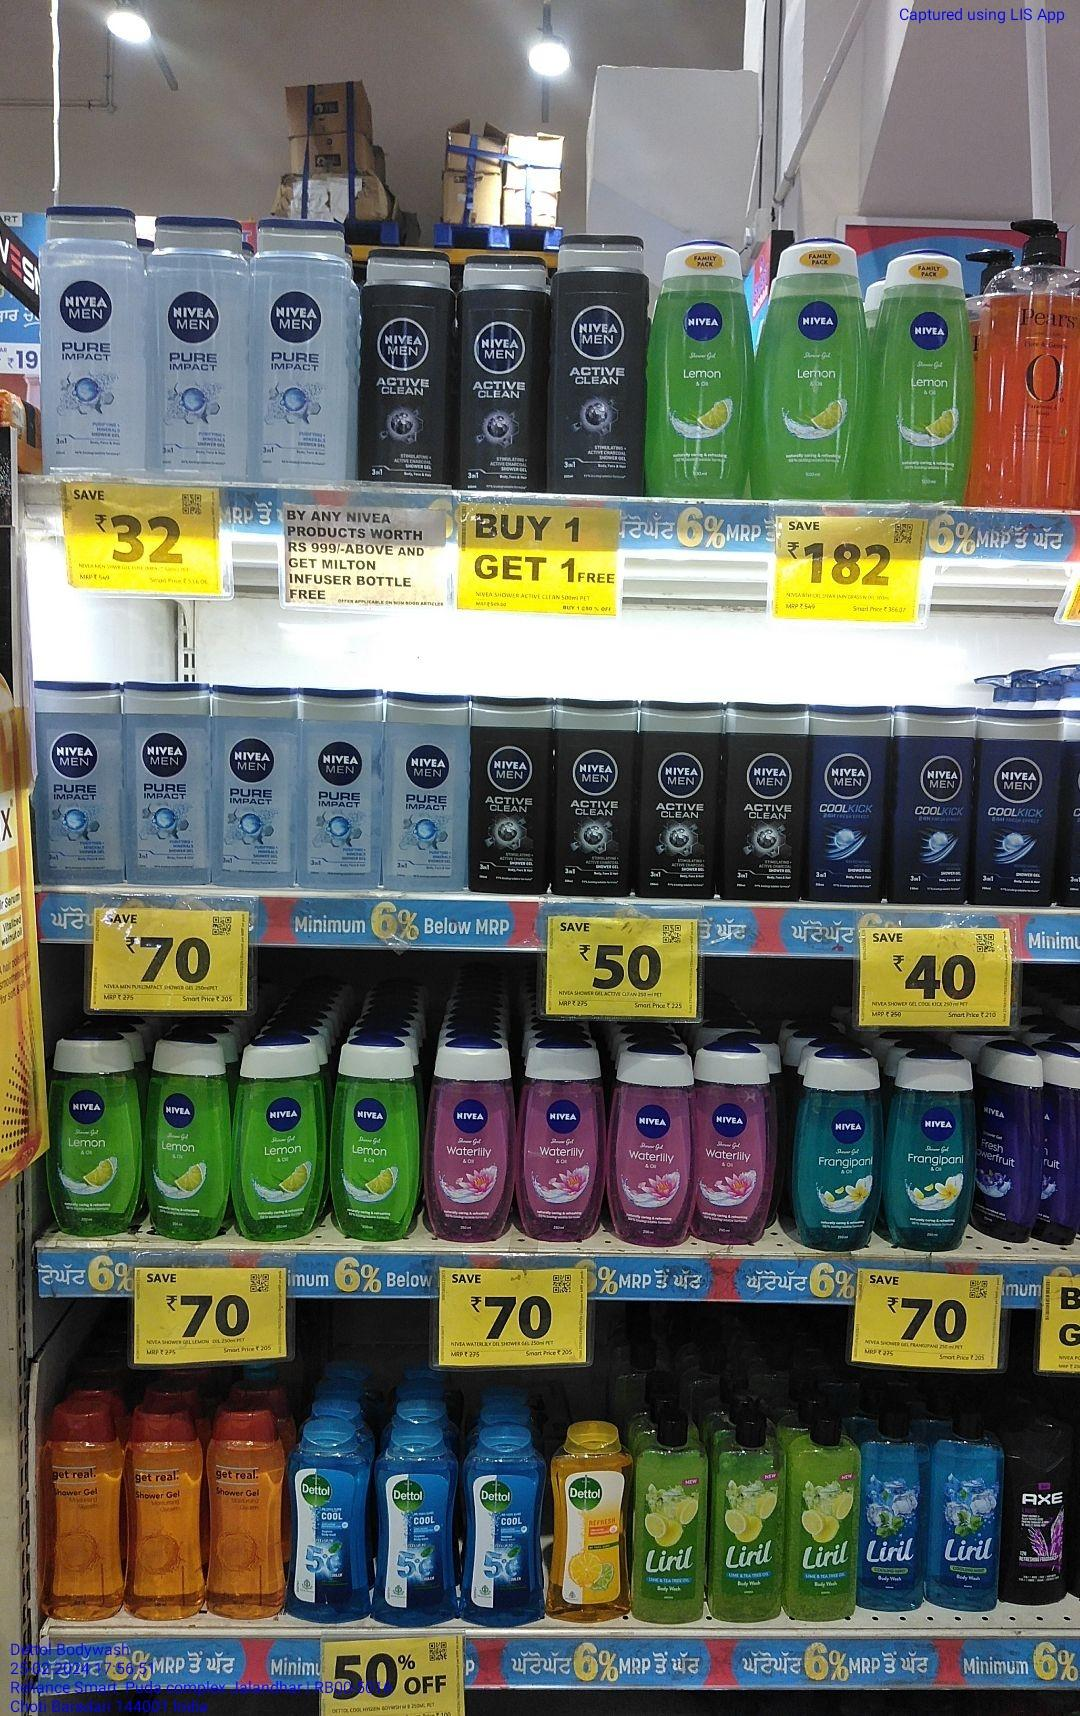Dettol_Bodywash_Cool: (290, 1429, 368, 1624), (467, 1440, 547, 1624), (381, 1435, 457, 1624)
Dettol_Bodywash_Refresh: (551, 1434, 631, 1619)
Get_Real_Shower_Gel_Moisturising_Glycerin_300ML: (123, 1407, 202, 1621), (205, 1406, 280, 1620), (47, 1399, 118, 1619)
Liril_Cooling_Mint_Body_Wash_250ML: (865, 1410, 932, 1610), (939, 1397, 999, 1608)
Liril_Lime_and_Tea_Tree_Oil_Body_Wash_250ML: (785, 1421, 855, 1621), (713, 1420, 781, 1620), (638, 1424, 703, 1621)
Nivea_Shower_Gel_Frangipani_and_Oil_250ML: (892, 1053, 968, 1254), (805, 1053, 872, 1247)
Nivea_Shower_Gel_Fresh_Powerfruit_250ML: (982, 1045, 1044, 1242)
Nivea_Shower_Gel_Lemon_and_Oil_250ML: (766, 239, 871, 495), (651, 245, 752, 498), (880, 248, 974, 504), (47, 1035, 133, 1234), (148, 1039, 230, 1242), (338, 1038, 421, 1239), (241, 1040, 321, 1243)
Nivea_Shower_Gel_Waterlily_and_Oil_250ML: (433, 1040, 511, 1241), (521, 1043, 597, 1242), (615, 1052, 693, 1243), (698, 1048, 768, 1243)
